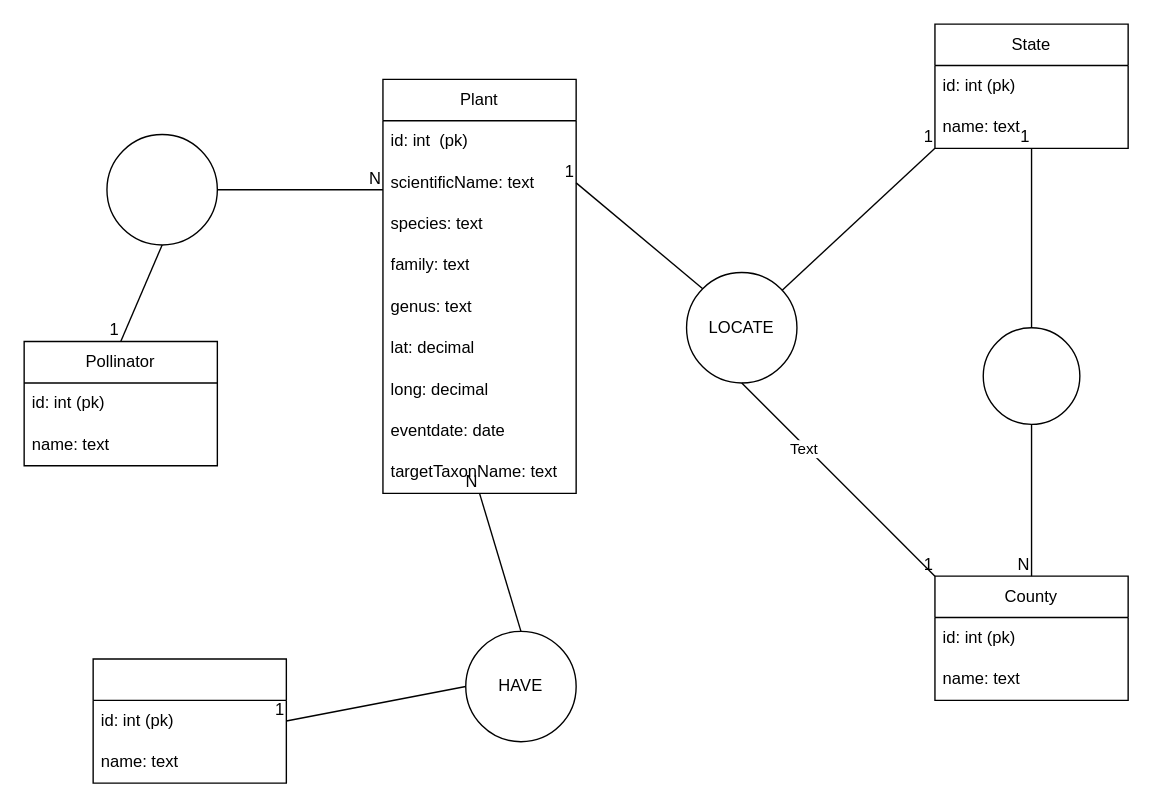
Image size: 1152x807. Some labels were removed from this diagram. Each missing label, with the box of its shape:
CONTAIN: (982, 326, 1080, 424)
EvidenceType: (92, 658, 286, 783)
POLINISE: (106, 133, 217, 245)
